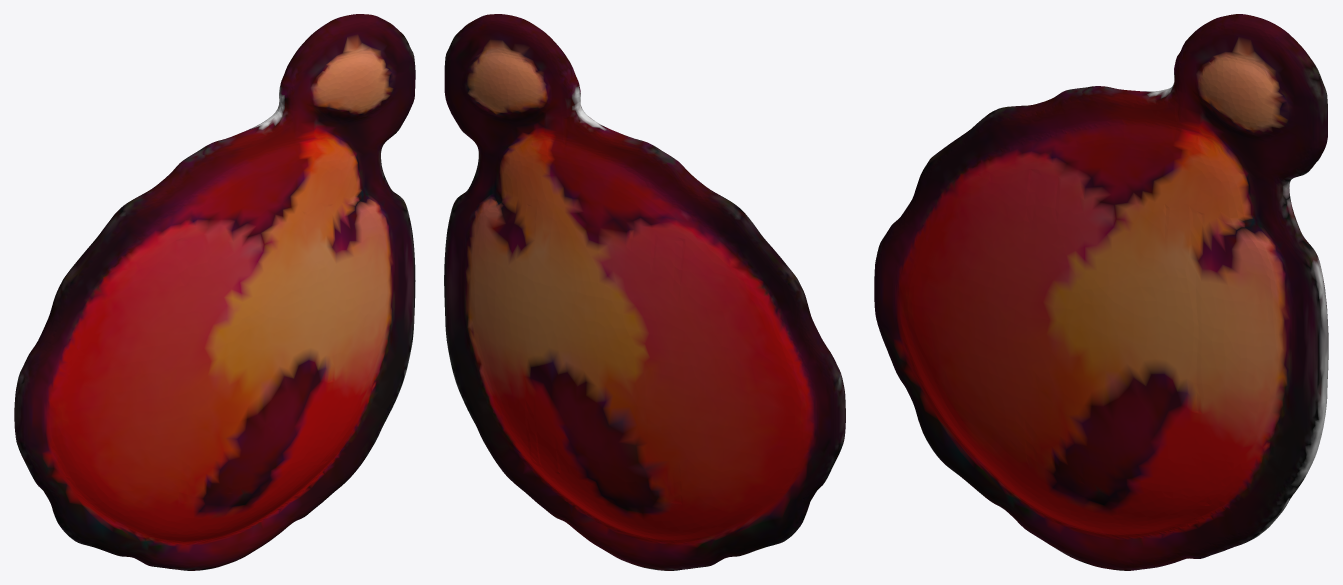
Rendered from valkyrie_holy_oil.glb.
3 views of the same model, side by side, from view 1: azimuth 30°, elevation 25°; view 2: azimuth 150°, elevation 25°; view 3: azimuth 330°, elevation 25° (orthographic). The views are drawn at different scales.
Parts seen in each view (by area): view 1: geometry_0; view 2: geometry_0; view 3: geometry_0.
Part boxes in pixels (x1,y1,x2,y2): geometry_0: (14,14,415,570); geometry_0: (444,14,845,570); geometry_0: (874,14,1328,570).
Bounding box in the file's own units: 0.375 × 0.4659 × 0.0701.
